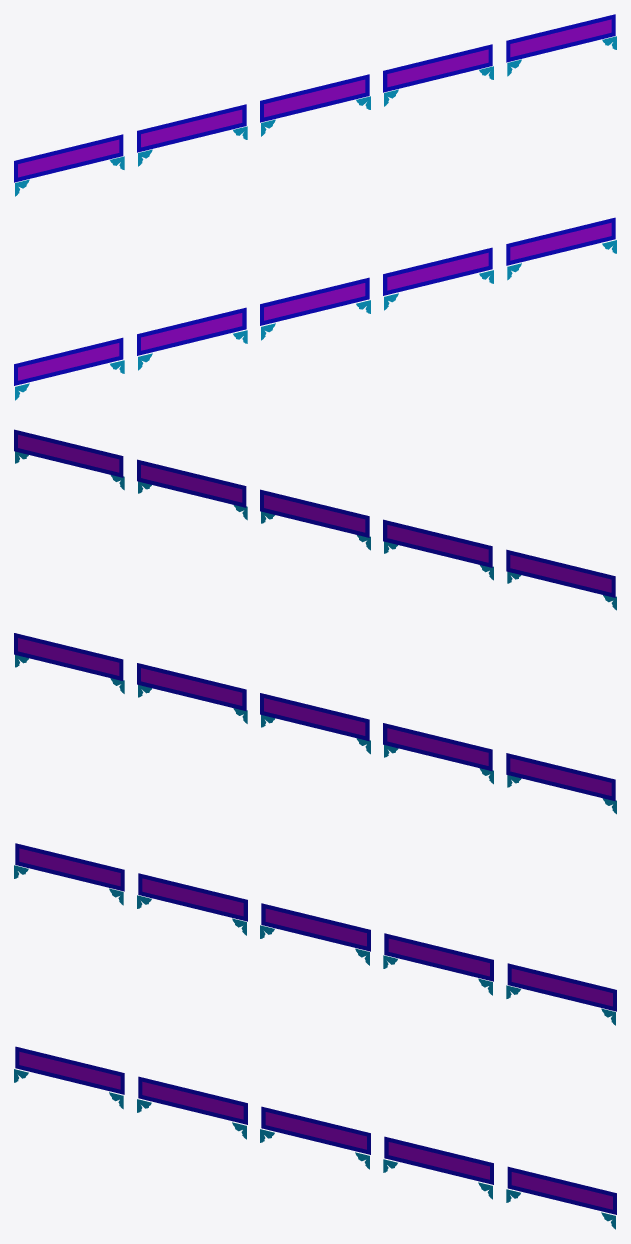
Rendered from Pillar Banner.fbx.
3 views of the same model, one above another, from view 1: azimuth 30°, elevation 25°; view 2: azimuth 150°, elevation 25°; view 3: azimuth 330°, elevation 25° (orthographic).
Parts seen in each view (by area): view 1: Top Plane.001; view 2: Top Plane.001; view 3: Top Plane.001.
Part boxes in pixels (box(x1,y1,x2,y2)): Top Plane.001: box(14, 14, 616, 400); Top Plane.001: box(14, 429, 616, 814); Top Plane.001: box(14, 843, 616, 1229).
Size of the model in its own units: 1860 by 705 by 5.99.
